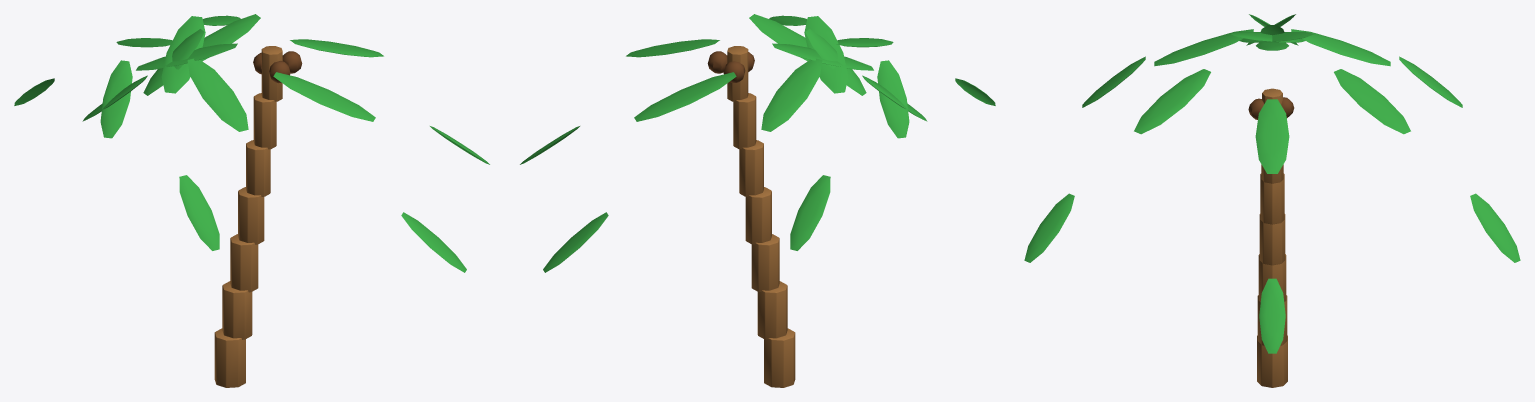
File: Palm.fbx
3 renders of one model, left to right at view 1: azimuth 30°, elevation 25°; view 2: azimuth 150°, elevation 25°; view 3: azimuth 270°, elevation 25°, orthographic. The views are drawn at different scales.
Visible parts, largest first — view 1: Palm; view 2: Palm; view 3: Palm.
Boxes of the visible parts, x1=… form: Palm: x1=14, y1=14, x2=489, y2=387; Palm: x1=520, y1=14, x2=995, y2=387; Palm: x1=1024, y1=14, x2=1520, y2=387.
Bounding box in the file's own units: 1815 × 1574 × 2055.
